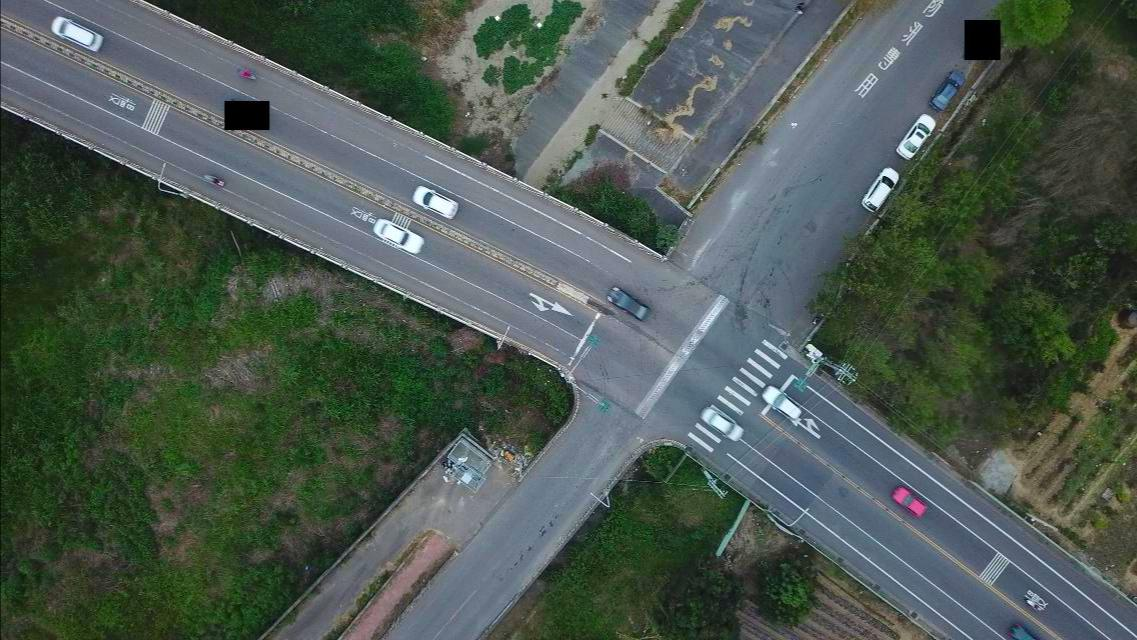vehicle: (50, 16, 104, 53), (374, 217, 427, 253), (895, 115, 937, 158), (411, 184, 460, 220), (606, 286, 653, 322), (861, 169, 898, 213), (701, 406, 744, 443), (928, 69, 965, 108), (762, 386, 803, 420), (891, 486, 927, 517), (1006, 622, 1036, 639)
